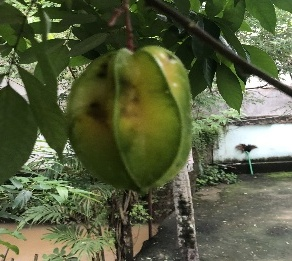Khe: (63, 43, 196, 200)
